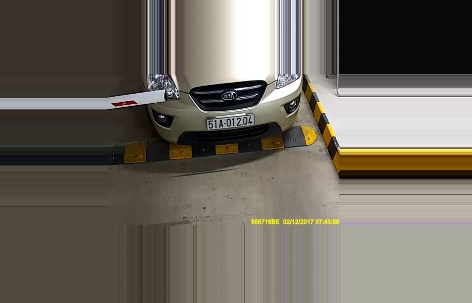plate: (204, 112, 255, 131)
